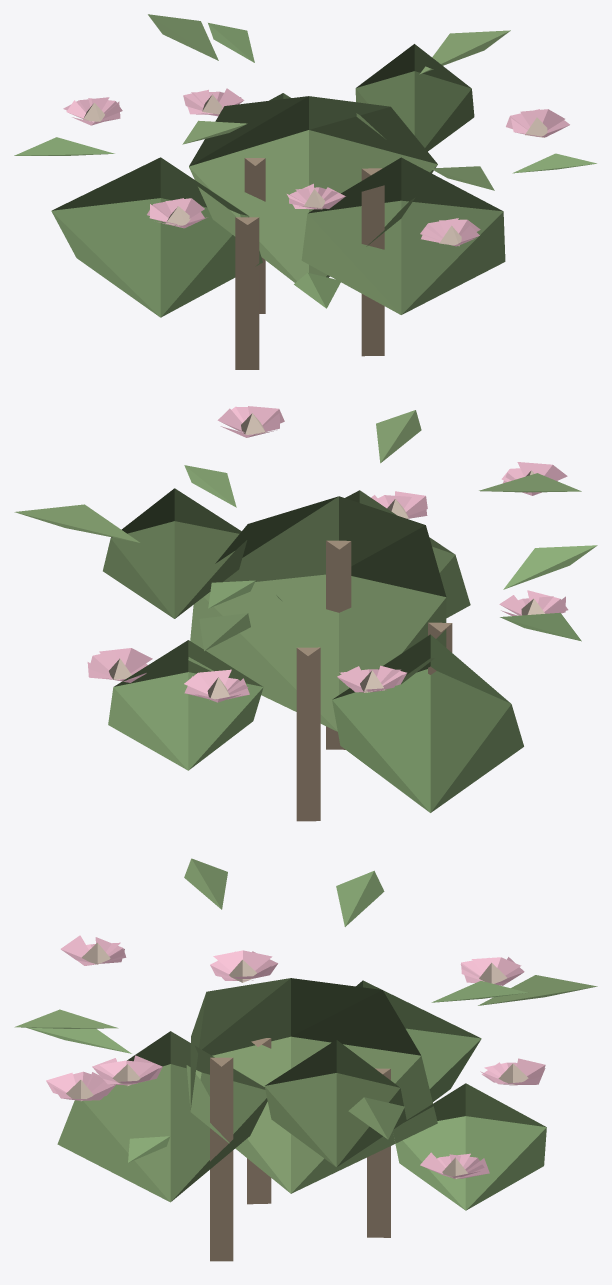
Rendered from guan.dujuan@flowering__bloom.glb.
The picture shows the model from 3 angles, top to bottom: view 1: azimuth 30°, elevation 25°; view 2: azimuth 150°, elevation 25°; view 3: azimuth 270°, elevation 25°; orthographic projection. The views are drawn at different scales.
Parts seen in each view (by area): view 1: guan.dujuan@flowering__bloom; view 2: guan.dujuan@flowering__bloom; view 3: guan.dujuan@flowering__bloom.
Part boxes in pixels (x1,y1,x2,y2): guan.dujuan@flowering__bloom: [14, 14, 596, 369]; guan.dujuan@flowering__bloom: [14, 406, 597, 821]; guan.dujuan@flowering__bloom: [14, 858, 597, 1261].
Bounding box in the file's own units: 2.66 × 1.4 × 2.46.
